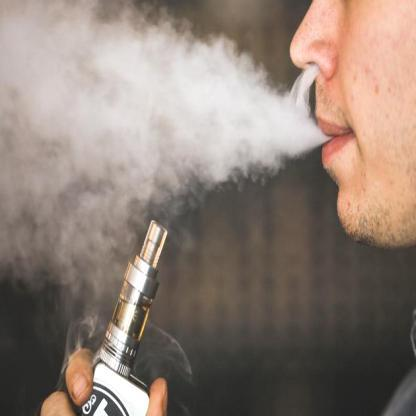smoke: (4, 4, 157, 267), (159, 34, 305, 187)
